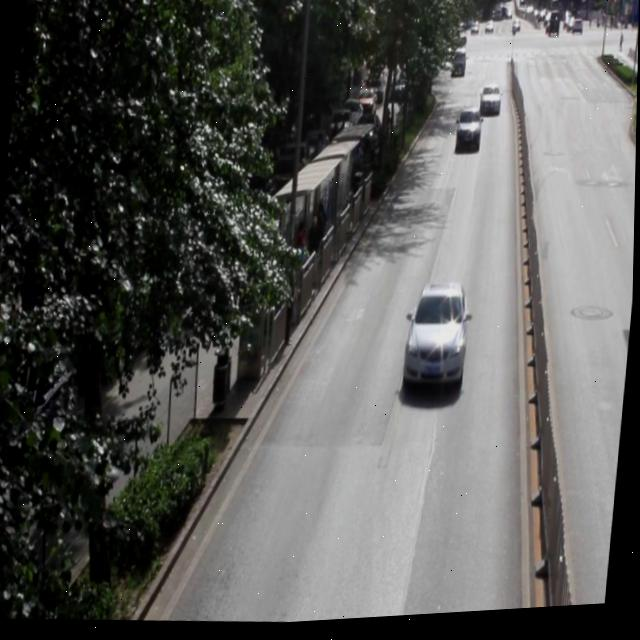car: (401, 283, 471, 396), (453, 109, 482, 156), (476, 87, 503, 124)
